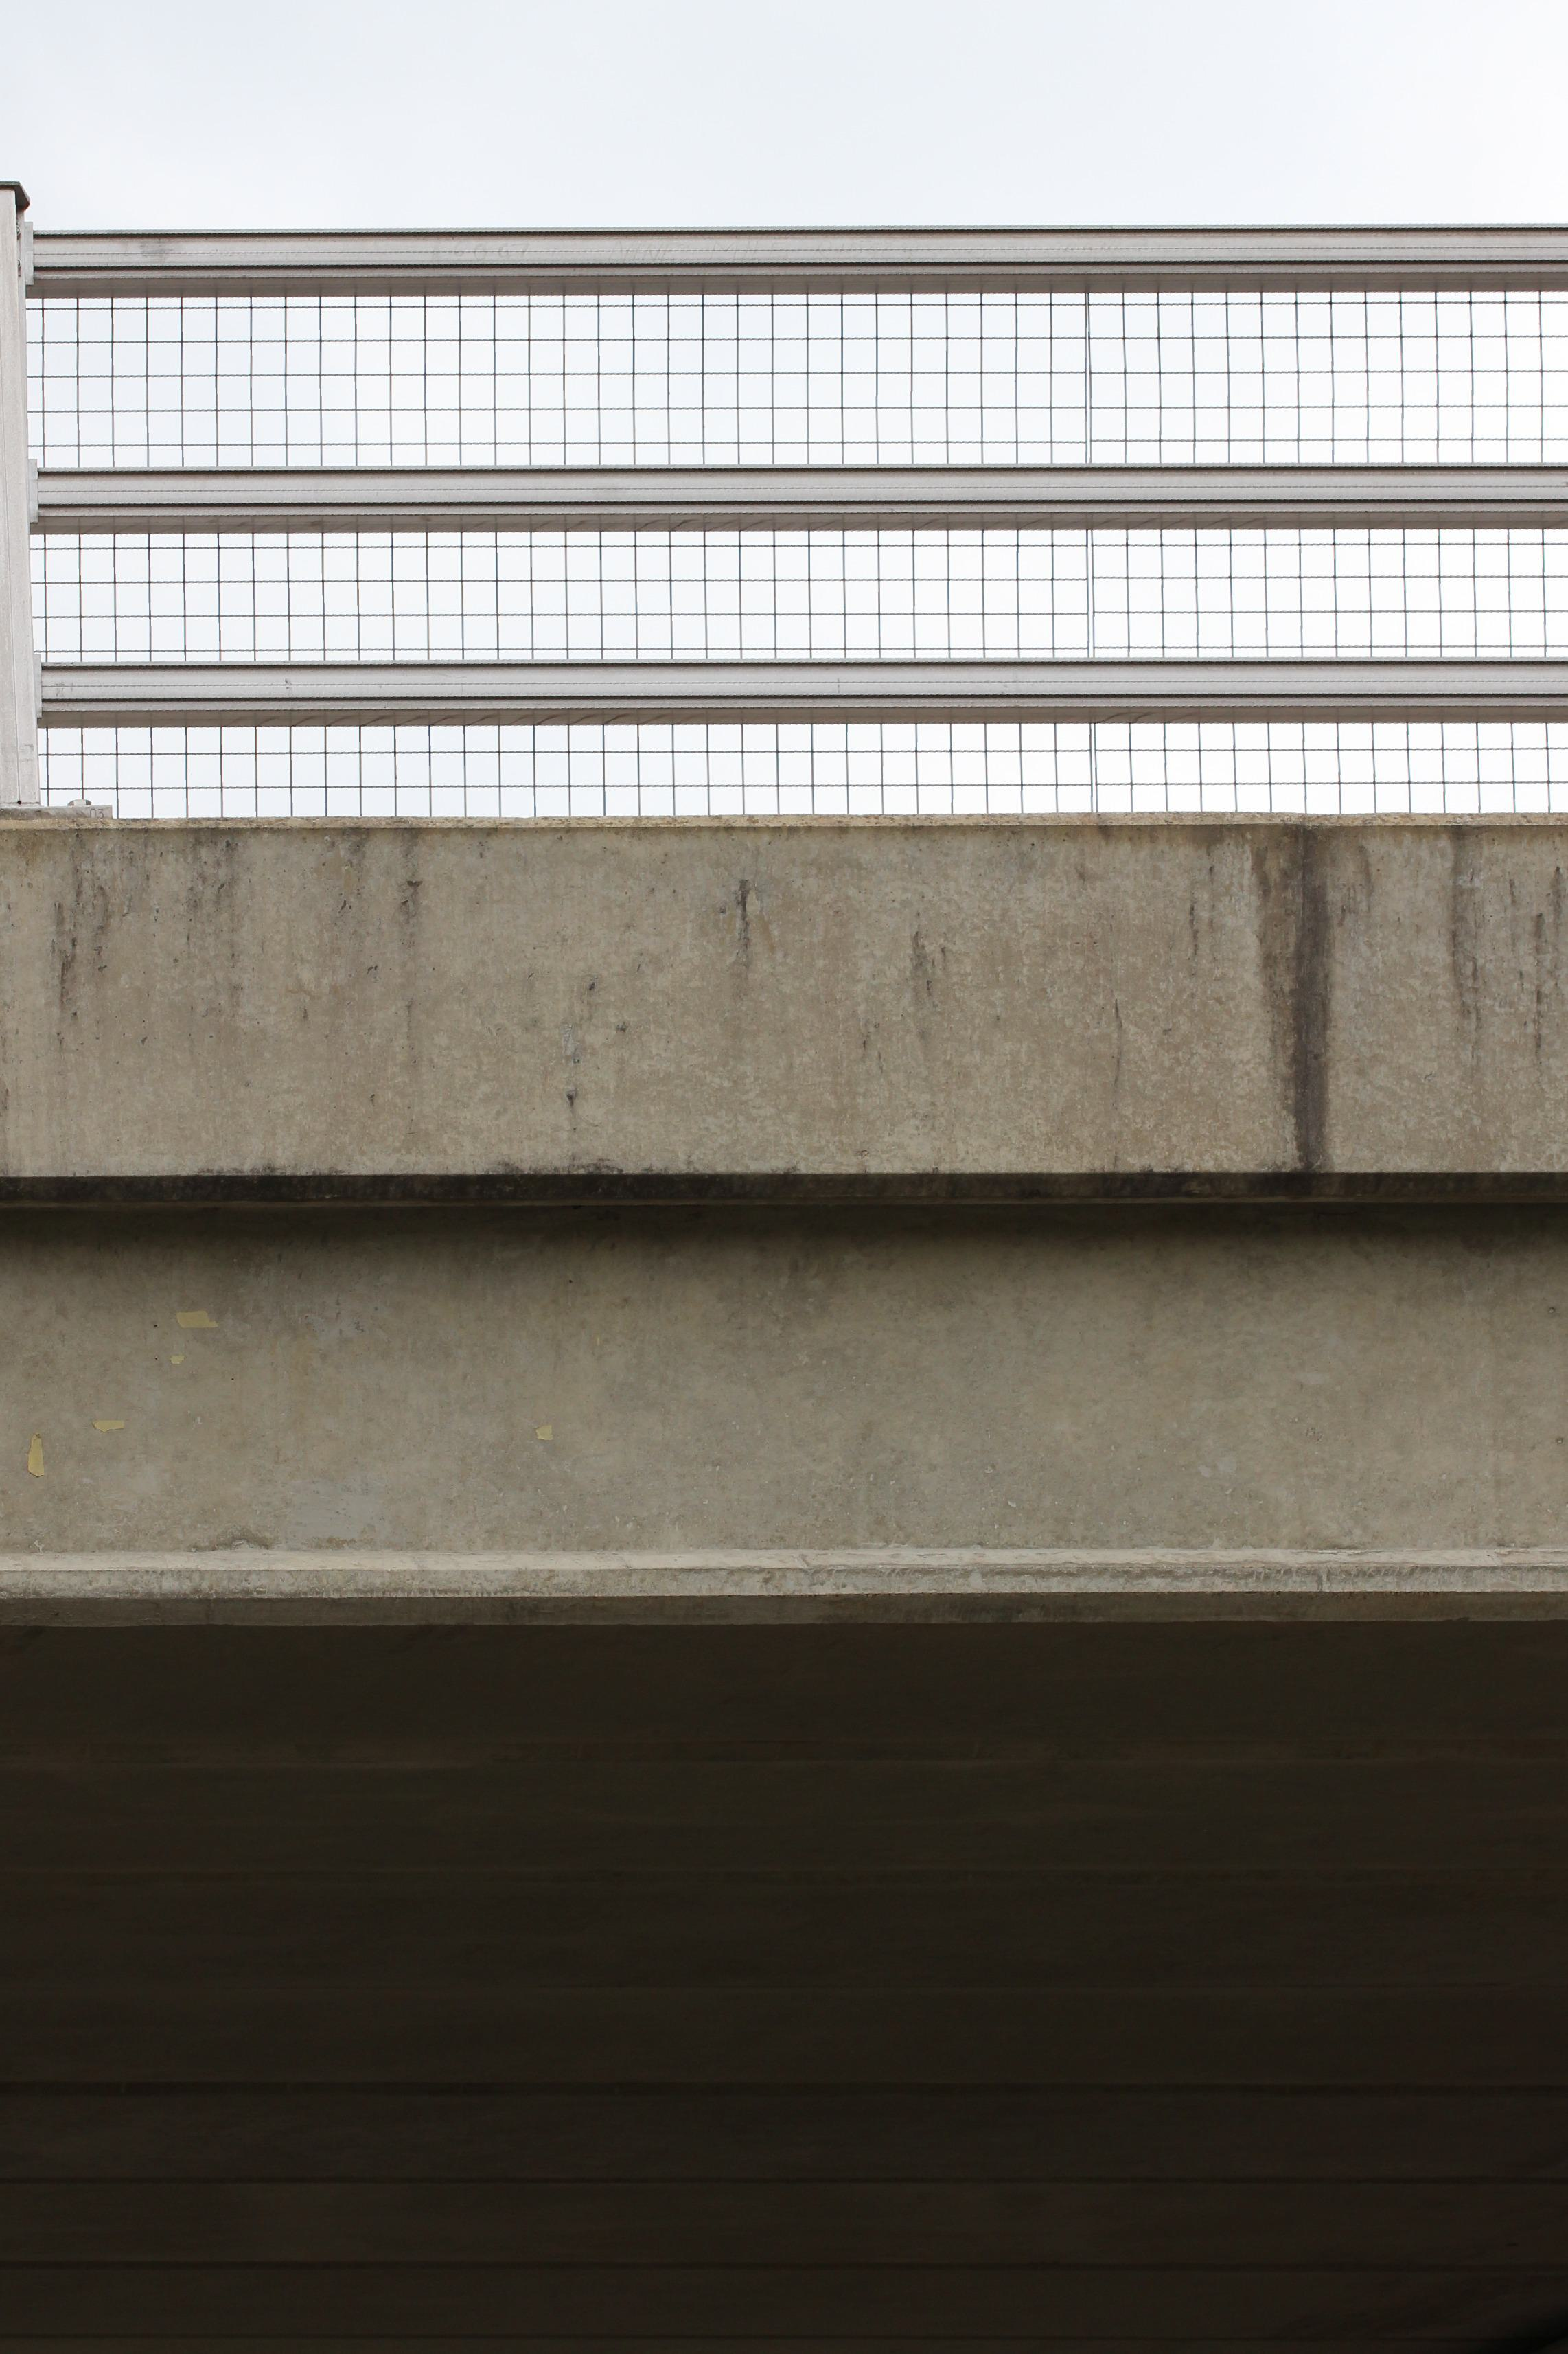Corrosion: (1248, 823, 1337, 1171)
